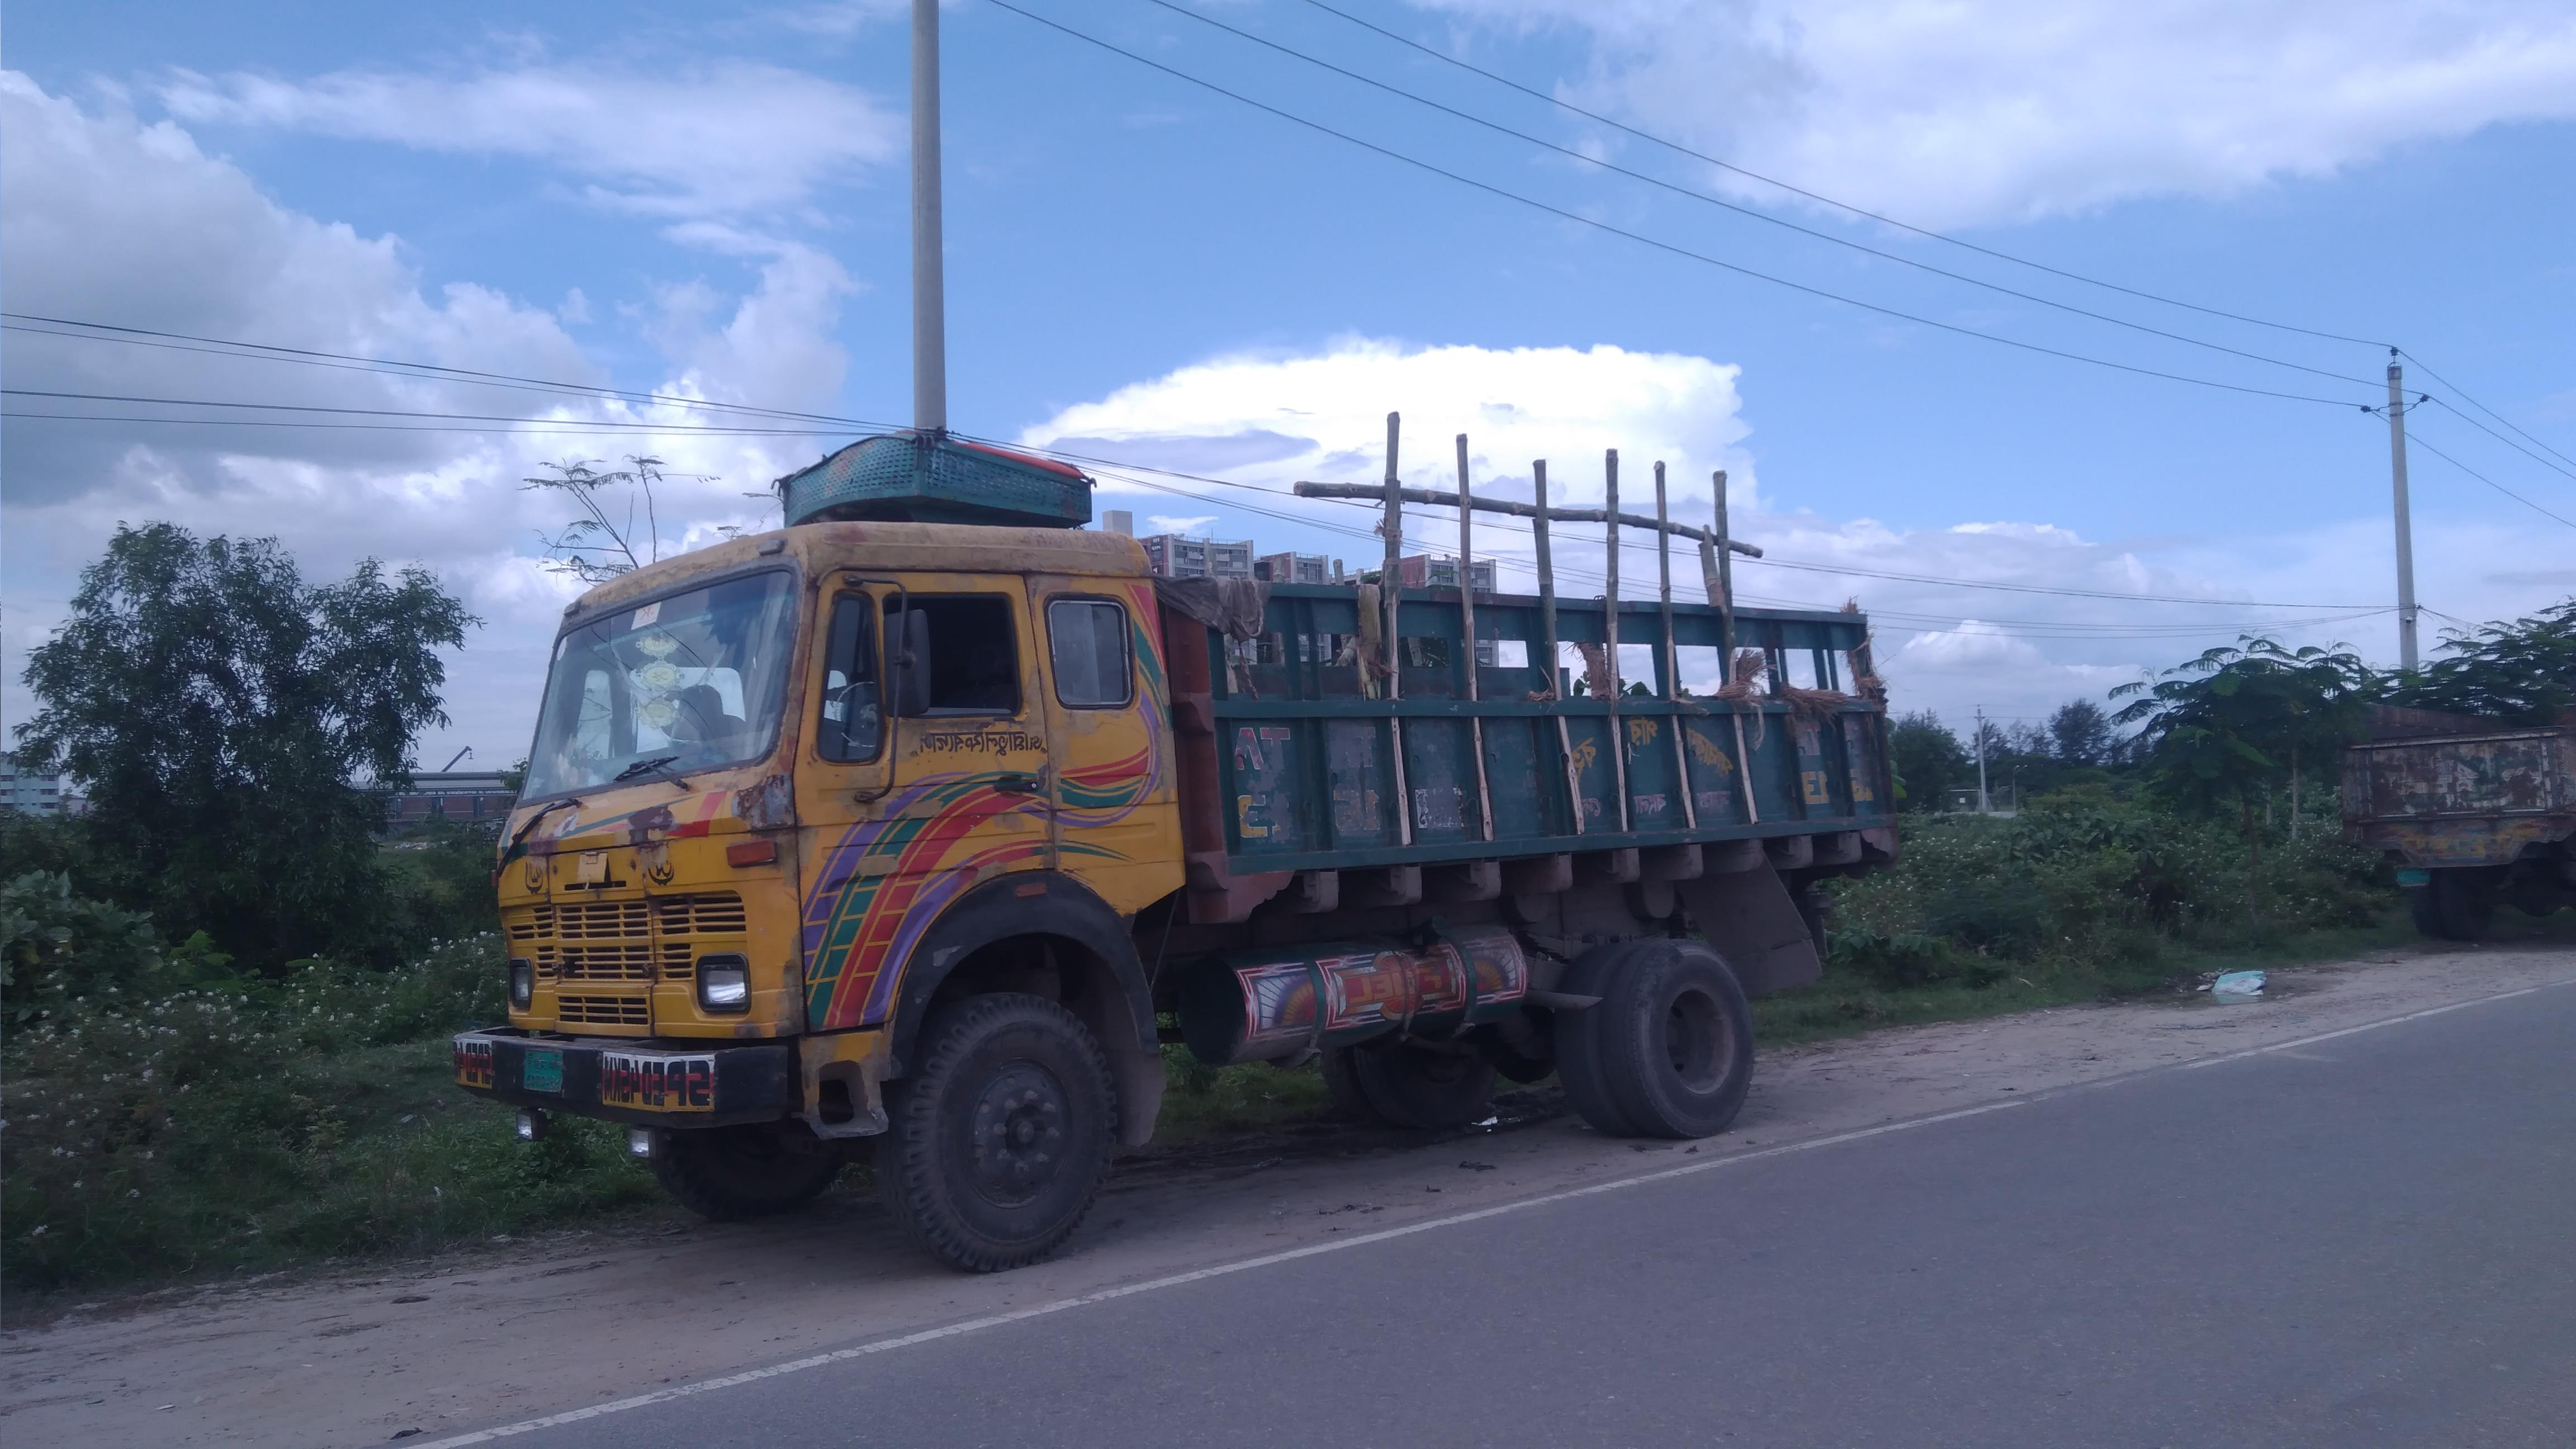truck: (485, 494, 1907, 1263), (2357, 685, 2576, 947)
